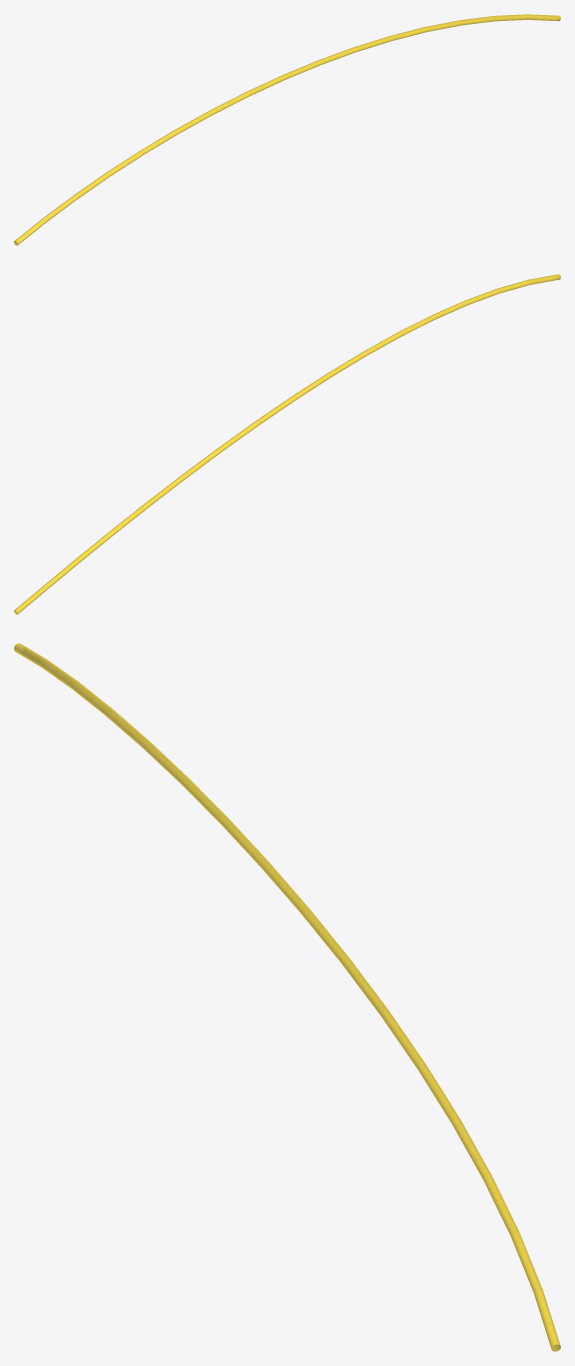
Rendered from Event_15818458_track_44.fbx.
3 views of the same model, one above another, from view 1: azimuth 30°, elevation 25°; view 2: azimuth 210°, elevation 25°; view 3: azimuth 270°, elevation 25° (orthographic). The views are drawn at different scales.
Visible parts, largest first — view 1: Model; view 2: Model; view 3: Model.
Boxes of the visible parts, x1,y1,x2,y2 form: Model: [14, 14, 560, 245]; Model: [14, 274, 560, 614]; Model: [14, 643, 560, 1351].
Size of the model in its own units: 5.78 by 0.6887 by 2.22.
